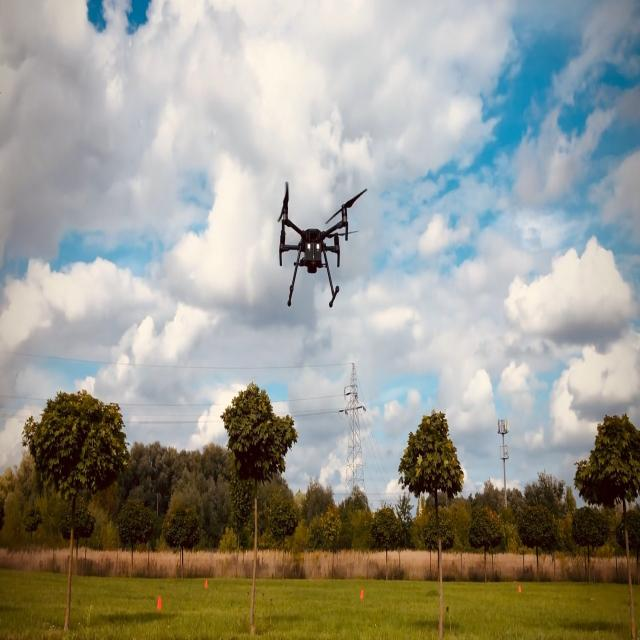drone: (277, 180, 367, 308)
